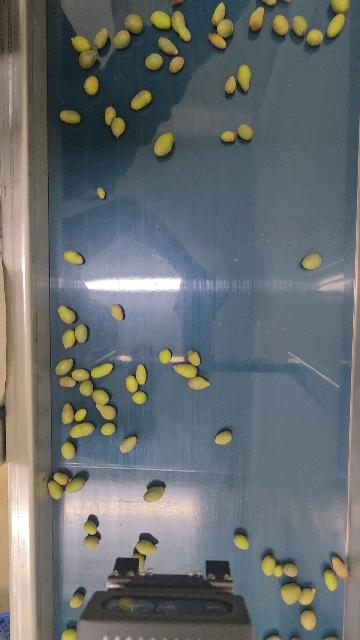Baby Potato: (170, 11, 193, 43), (153, 130, 175, 158), (126, 90, 154, 111), (136, 52, 166, 71), (281, 581, 301, 609), (326, 12, 347, 38), (247, 5, 267, 31), (69, 421, 96, 440), (142, 484, 169, 503), (79, 74, 102, 96), (236, 117, 255, 143), (63, 245, 85, 267), (150, 10, 171, 33), (123, 12, 144, 35), (333, 554, 350, 582), (291, 12, 309, 38), (76, 50, 102, 68), (237, 64, 253, 93), (57, 302, 77, 325), (88, 387, 115, 404), (59, 107, 83, 126), (301, 253, 326, 271), (156, 37, 179, 56), (306, 26, 324, 50), (68, 33, 92, 51), (92, 404, 117, 421), (58, 401, 75, 426), (217, 17, 237, 38), (187, 375, 215, 390), (169, 52, 188, 74), (133, 362, 151, 385), (66, 477, 89, 495), (210, 1, 227, 25), (173, 362, 198, 378), (46, 480, 64, 502), (299, 608, 317, 630), (114, 29, 131, 52), (92, 27, 109, 50), (300, 584, 317, 607), (273, 14, 289, 38), (260, 553, 276, 577), (208, 33, 228, 52), (91, 363, 115, 378), (111, 116, 125, 141), (324, 569, 339, 592), (54, 357, 73, 375), (187, 347, 205, 366), (119, 435, 138, 453), (283, 560, 301, 579), (60, 442, 77, 462), (60, 327, 75, 349), (69, 367, 91, 382), (137, 539, 159, 554), (232, 533, 250, 551), (74, 323, 88, 346), (223, 74, 237, 96), (104, 102, 117, 125), (220, 127, 237, 144), (215, 430, 233, 446), (56, 375, 76, 389), (53, 470, 70, 486), (132, 554, 148, 571), (131, 389, 149, 404), (126, 373, 139, 393), (80, 378, 93, 398), (82, 519, 98, 535), (112, 303, 124, 323), (83, 535, 100, 549), (70, 591, 84, 608), (331, 0, 349, 13), (101, 422, 116, 437), (74, 406, 88, 422), (157, 347, 170, 364), (61, 627, 77, 640), (274, 561, 283, 580), (97, 184, 106, 201), (269, 634, 282, 640)
